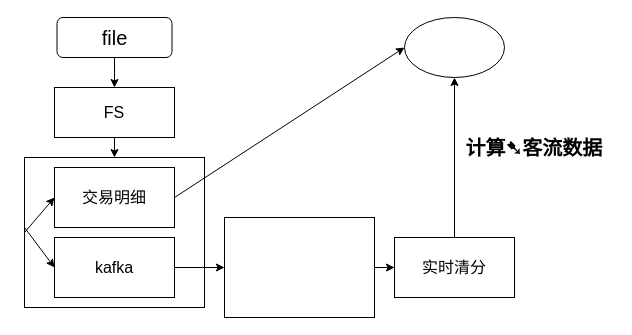
Image size: 632x335. Some labels were removed from this diagram. The centre of each missing label's shape, as x and y in pixels:
DB2: point 454,47
队列（kafka-topics） tname:票卡大类+小类 consumerNum:primary consumerGroupId:: point 299,267
